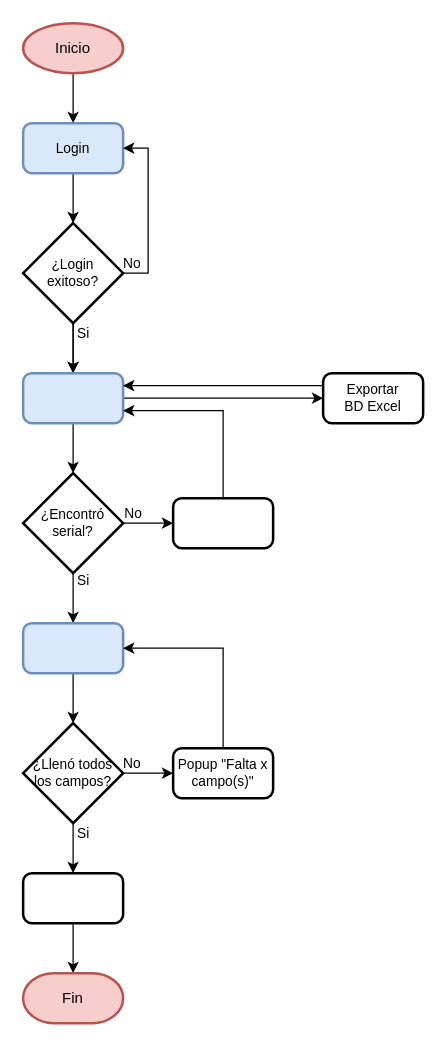
This 445x1045 diagram has some shape labels left out. Here are the shapes that lost their labels. From the top down, the centre of each, then its label:
pixel 72 397: Home
pixel 222 522: Importar BD Excel
pixel 72 647: Formulario
pixel 72 897: Popup "Descargar Checklist"
